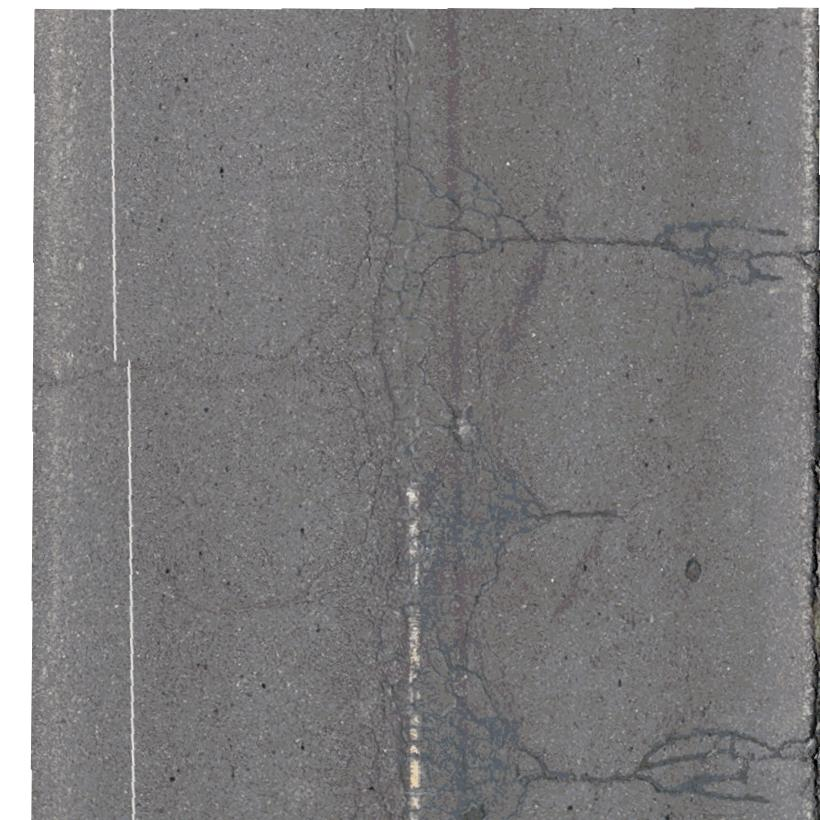GRIETA: (808, 290, 819, 733), (34, 362, 149, 388), (541, 236, 650, 247), (548, 769, 632, 783), (553, 509, 618, 518)
PIEL DE COCODRILO: (278, 98, 556, 819), (631, 725, 819, 808), (645, 218, 819, 299)
